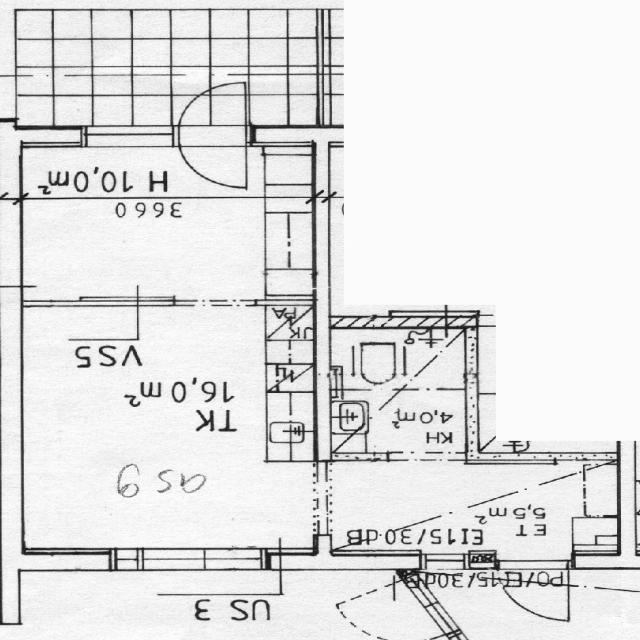door: (497, 550, 567, 620), (178, 126, 246, 197), (178, 76, 246, 146)
